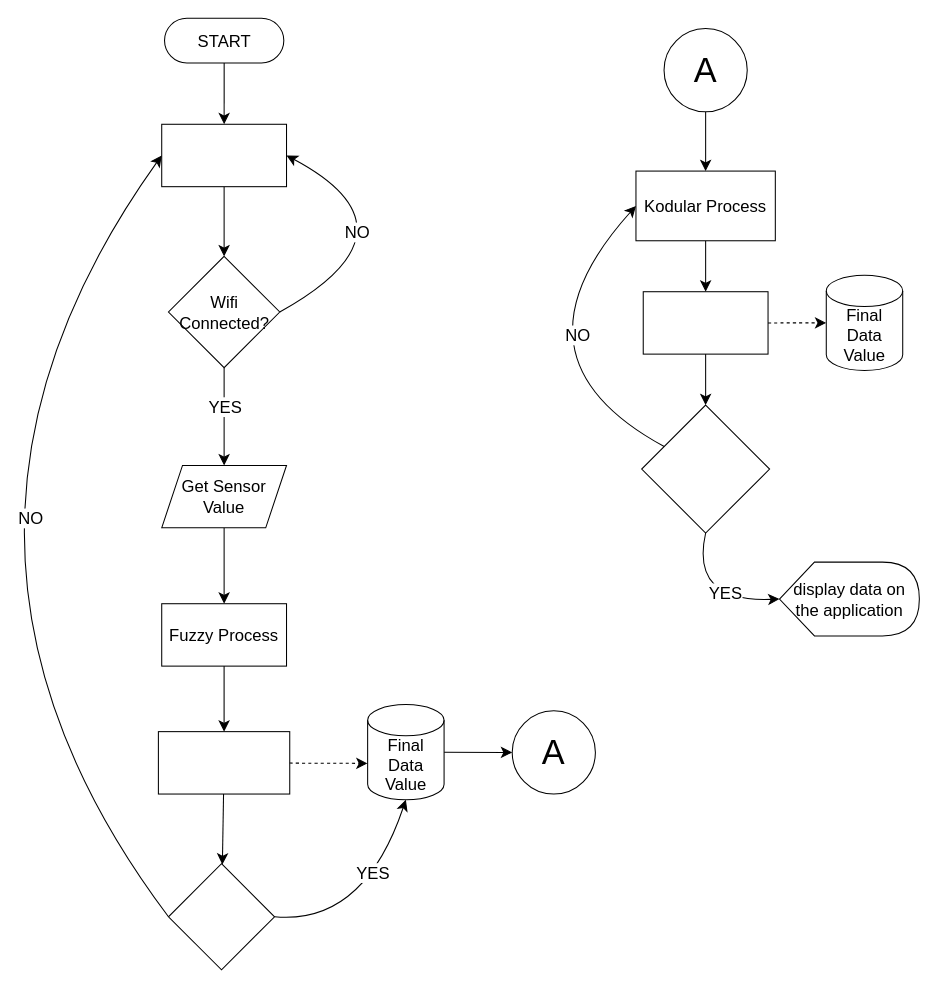
Image size: 938x988. Some labels were removed from this diagram. The shapes that lost their labels are listed below. From the top down, each one's centre as x and y in pixels, then its label:
At [224,155]: "Connecting to Wifi".
At [705,322]: "Get Final Data Value".
At [705,468]: "Sucess Get Final Data Value?".
At [223,762]: "Send To Firebase".
At [221,916]: "Send Success".
